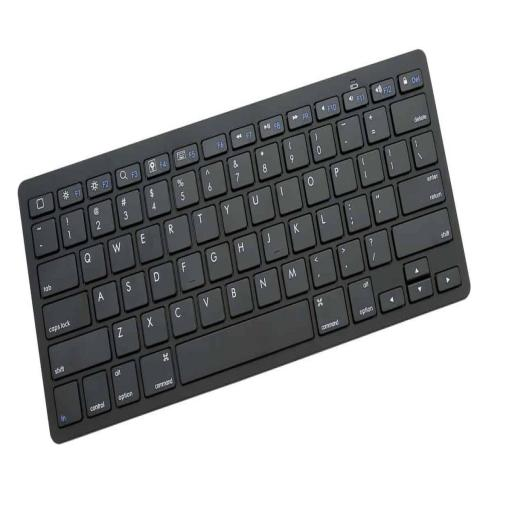keyboard: (19, 45, 480, 454)
